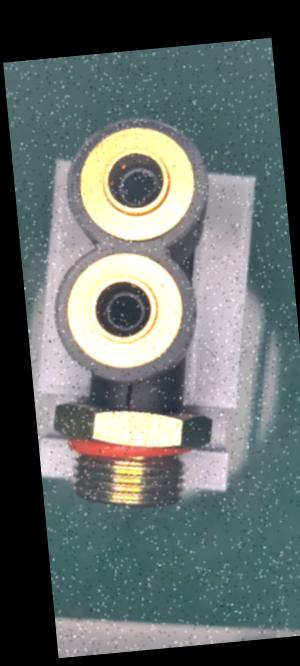craze: (122, 379, 140, 413)
off-centered: (115, 159, 168, 210)
